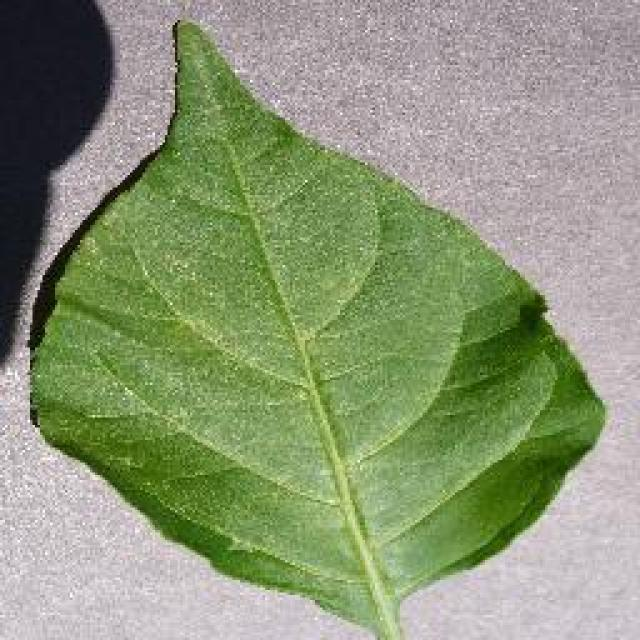Leaf: (89, 143, 525, 549)
